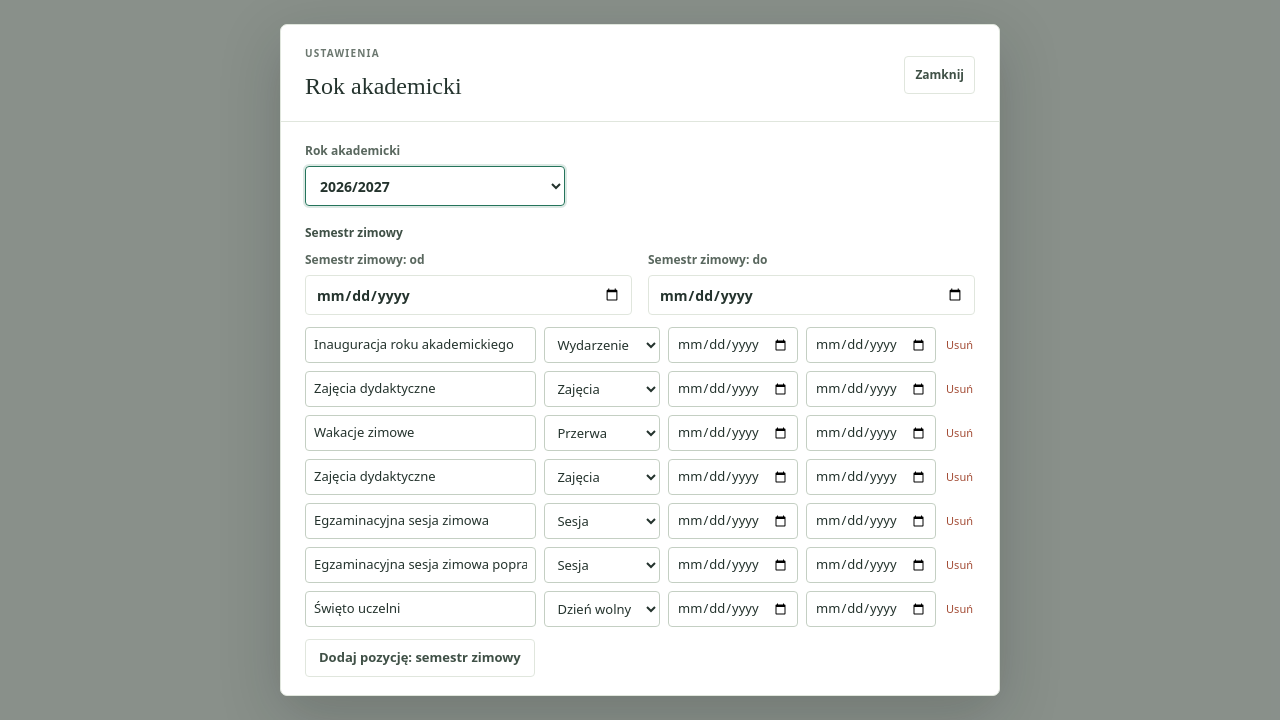
Scenario: AcademicYearSettings › explains what is missing instead of saving
This screenshot has width=1280, height=720.
Type "2026-10-01" into the date field labelled "Semestr zimowy: od".
click(468, 295); type("2026-10-01")  # box [305, 275, 632, 315]
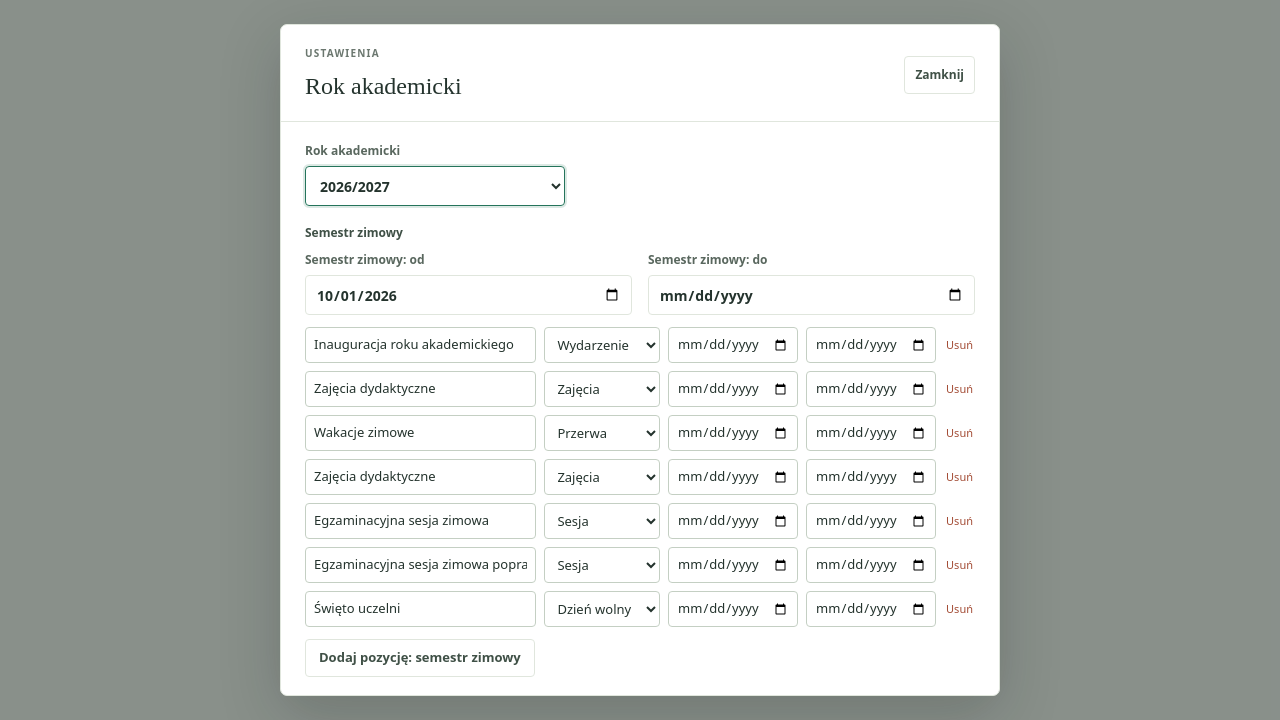
Type "2027-02-21" into the date field labelled "Semestr zimowy: do".
click(812, 295); type("2027-02-21")  # box [648, 275, 975, 315]
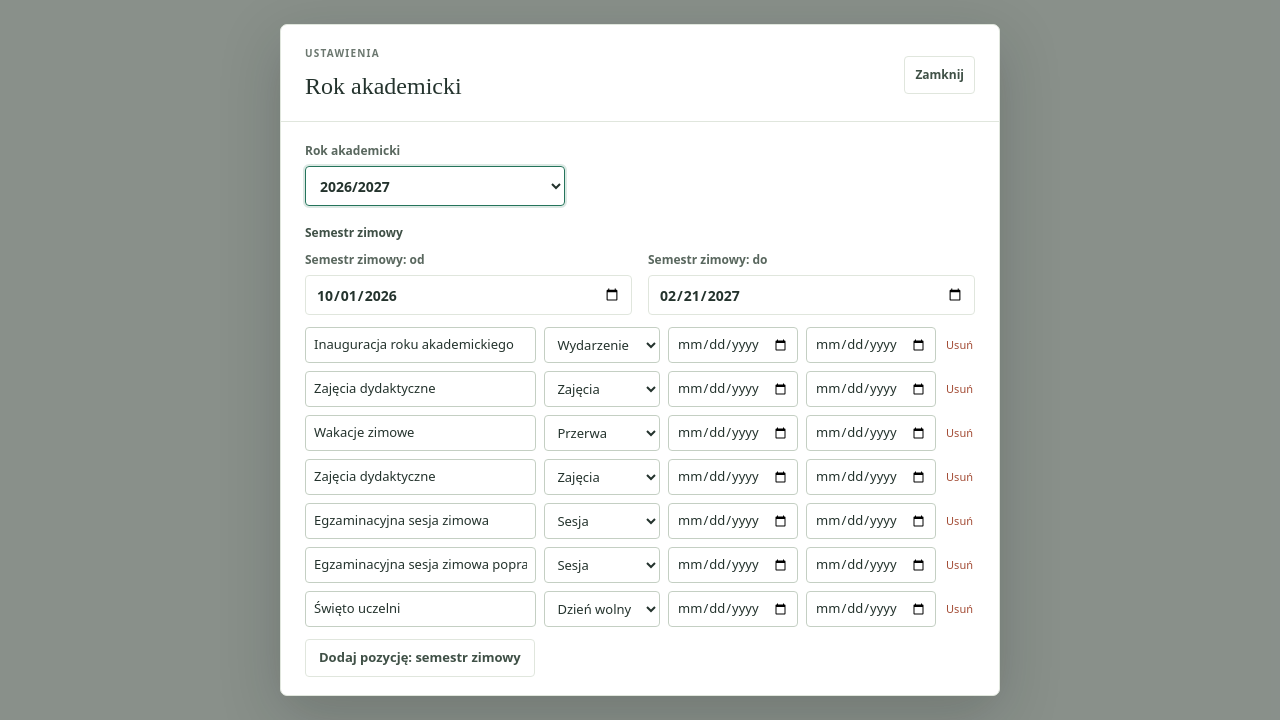
Click the button with aria-label "Usuń pozycję: Inauguracja roku akademickiego".
click(960, 345)  # box [944, 333, 975, 357]
(page scrolled)
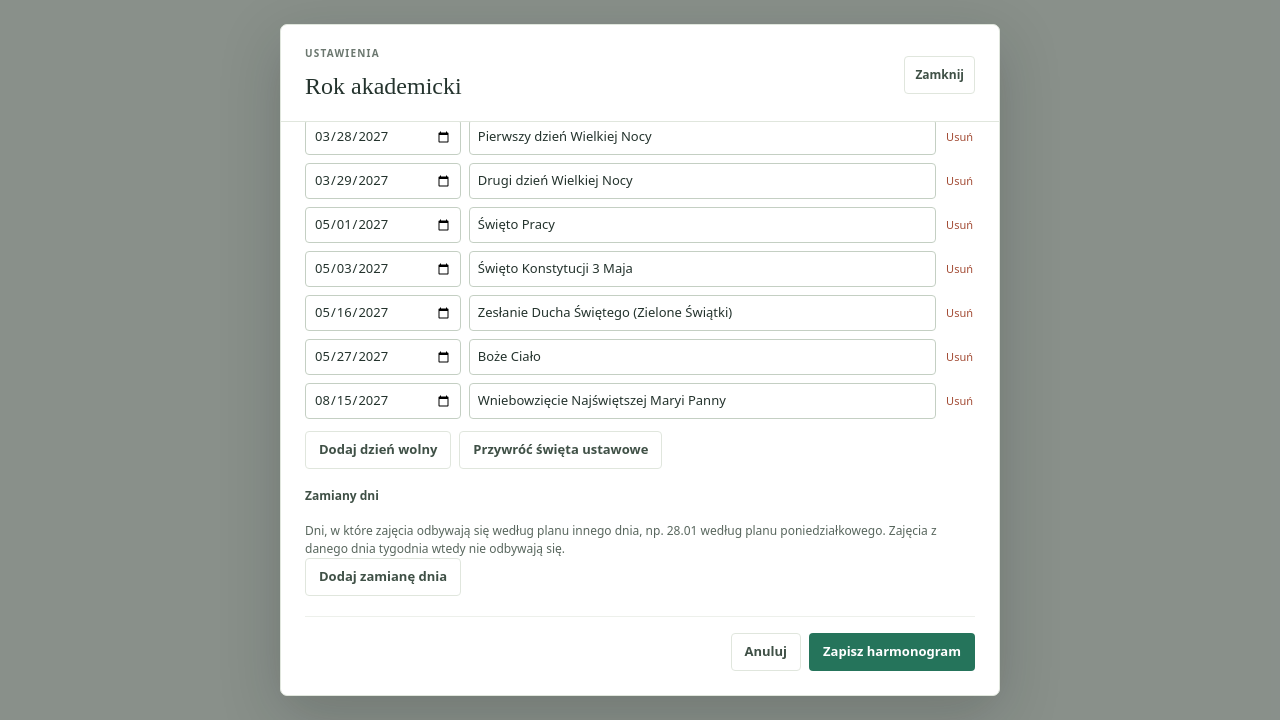
Click the button "Zapisz harmonogram".
click(892, 652)  # box [809, 633, 975, 671]
(page scrolled)
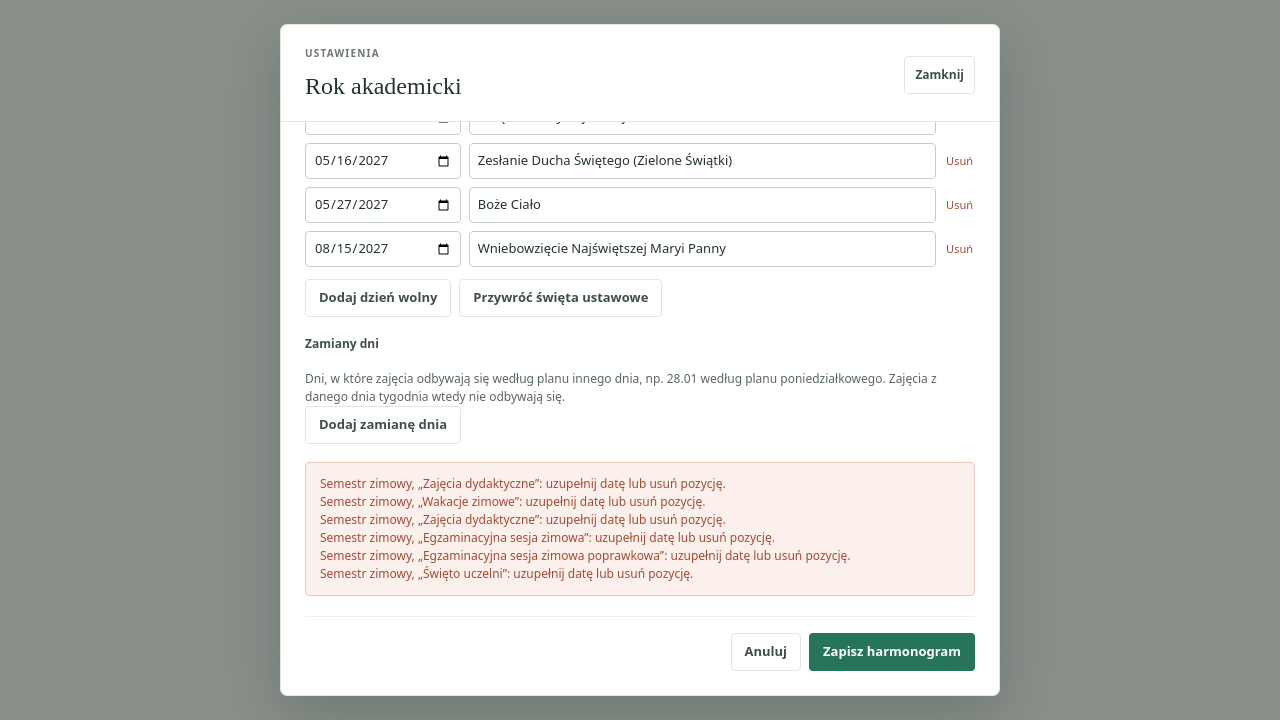
Expected: the message does not show "Inauguracja"
Now the message shows "Semestr zimowy, „Zajęcia dydaktyczne”: uzupełnij datę lub usuń pozycję.", box [320, 475, 726, 492]
